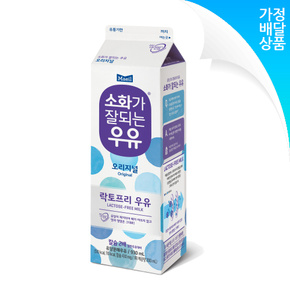milk: (90, 24, 188, 275)
